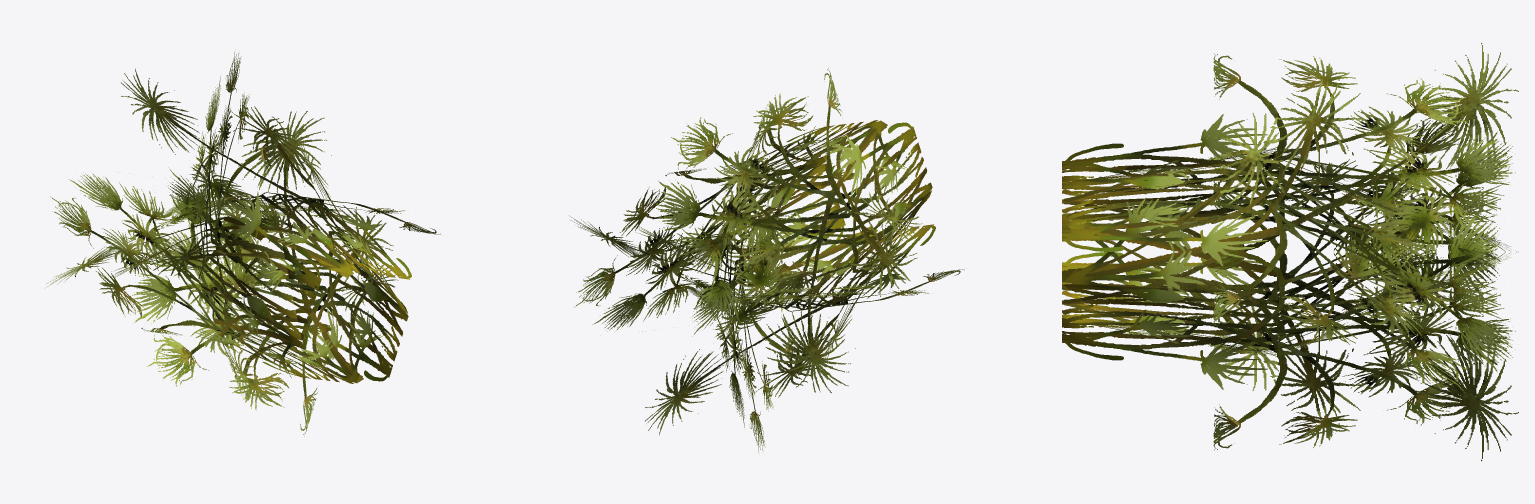
File: papyrus_1.glb
The picture shows the model from 3 angles, left to right: view 1: azimuth 30°, elevation 25°; view 2: azimuth 150°, elevation 25°; view 3: azimuth 270°, elevation 25°; orthographic projection. The views are drawn at different scales.
Bounding box in the file's own units: 7.73 × 7.73 × 8.13.
1 material, 1 textured.
